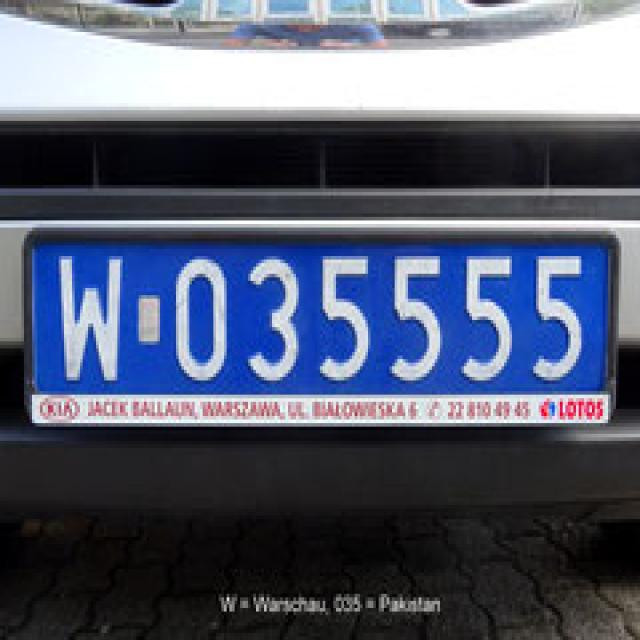pl_license_plate: (29, 242, 606, 388)
